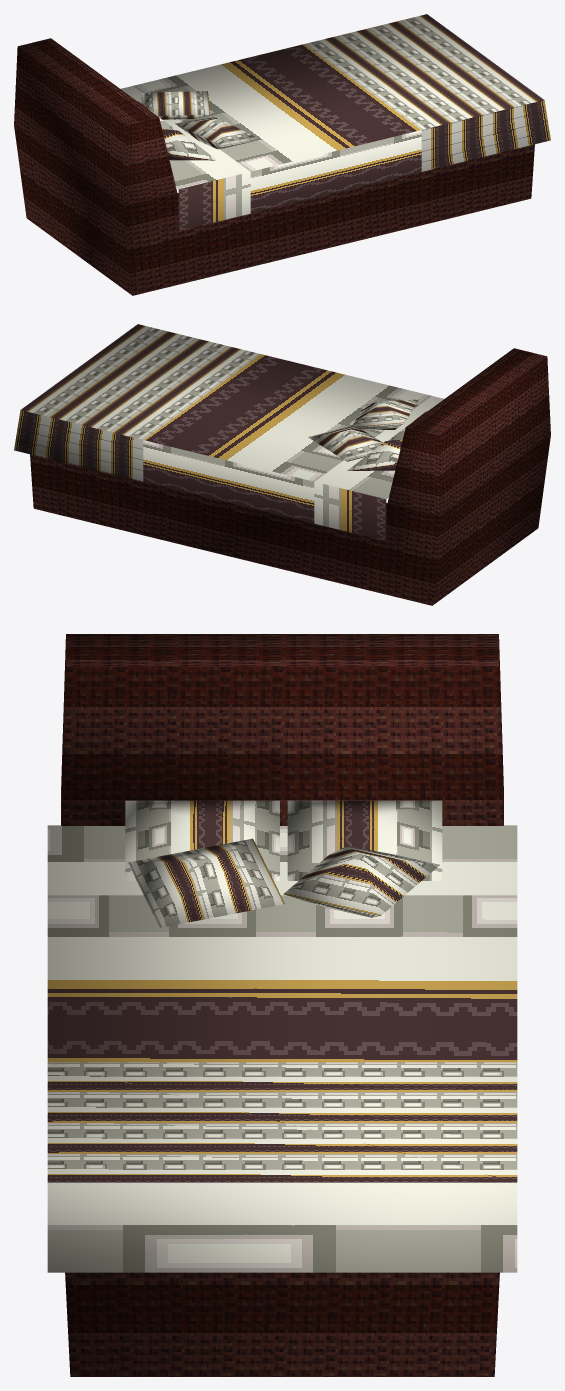
Rendered from 3050IMRL03_01.gltf.
3 views of the same model, one above another, from view 1: azimuth 30°, elevation 25°; view 2: azimuth 150°, elevation 25°; view 3: azimuth 270°, elevation 25° (orthographic). The views are drawn at different scales.
Parts seen in each view (by area): view 1: 3050IMRL03_01; view 2: 3050IMRL03_01; view 3: 3050IMRL03_01.
Boxes of the visible parts, left/top/right/bottom form: 3050IMRL03_01: left=14, top=14, right=550, bottom=295; 3050IMRL03_01: left=14, top=324, right=550, bottom=605; 3050IMRL03_01: left=47, top=634, right=517, bottom=1376.
Bounding box in the file's own units: 1.93 × 0.7549 × 0.9287.
3 materials, 3 textured.
